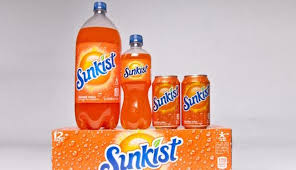can: (180, 70, 211, 132), (153, 66, 180, 134)
